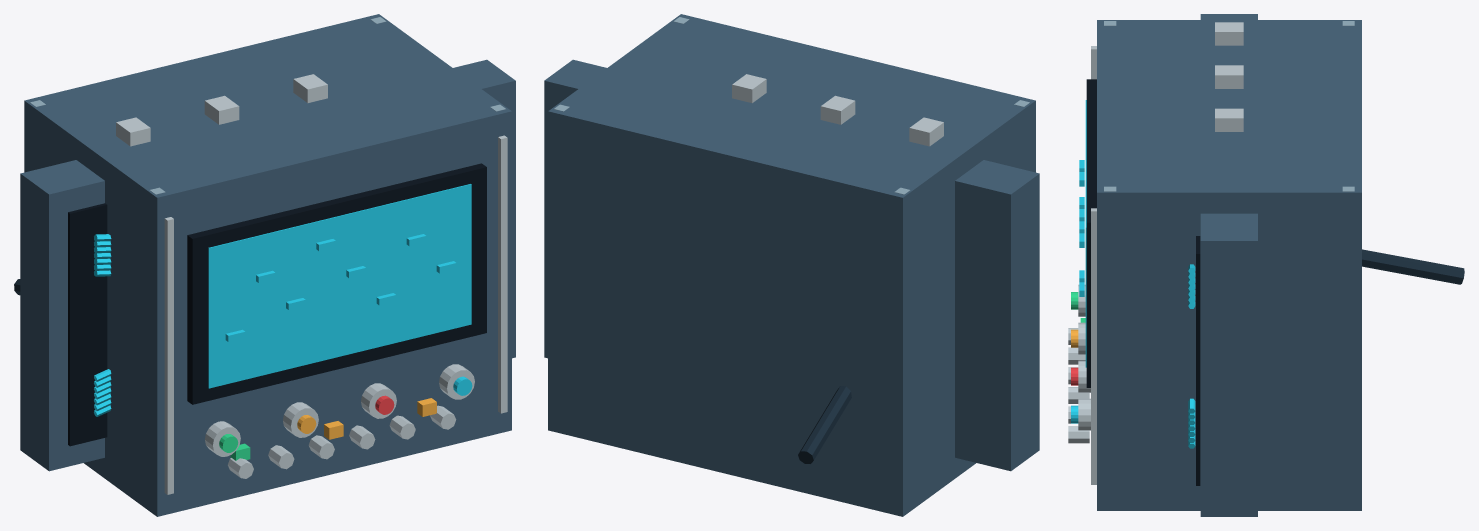
The model's file is 43_L80_OpticalLinkPowerBudgetMeter.fbx.
3 views of the same model, side by side, from view 1: azimuth 30°, elevation 25°; view 2: azimuth 150°, elevation 25°; view 3: azimuth 270°, elevation 25° (orthographic).
Visible parts, largest first — view 1: OpticalLinkPowerBudgetMeter, OpticalLinkPowerBudgetMeter_Part_0035, OpticalLinkPowerBudgetMeter_Part_0036; view 2: OpticalLinkPowerBudgetMeter, OpticalLinkPowerBudgetMeter_Part_0035; view 3: OpticalLinkPowerBudgetMeter, OpticalLinkPowerBudgetMeter_Part_0035, OpticalLinkPowerBudgetMeter_Part_0036.
Part boxes in pixels (left/top/right/bottom): OpticalLinkPowerBudgetMeter: left=14, top=14, right=511, bottom=516; OpticalLinkPowerBudgetMeter_Part_0035: left=20, top=59, right=515, bottom=471; OpticalLinkPowerBudgetMeter_Part_0036: left=68, top=203, right=107, bottom=446; OpticalLinkPowerBudgetMeter: left=548, top=14, right=1035, bottom=516; OpticalLinkPowerBudgetMeter_Part_0035: left=544, top=59, right=1039, bottom=471; OpticalLinkPowerBudgetMeter: left=1068, top=20, right=1464, bottom=510; OpticalLinkPowerBudgetMeter_Part_0035: left=1200, top=14, right=1257, bottom=516; OpticalLinkPowerBudgetMeter_Part_0036: left=1196, top=236, right=1200, bottom=485.
Bounding box in the file's own units: 150 × 102 × 111.
